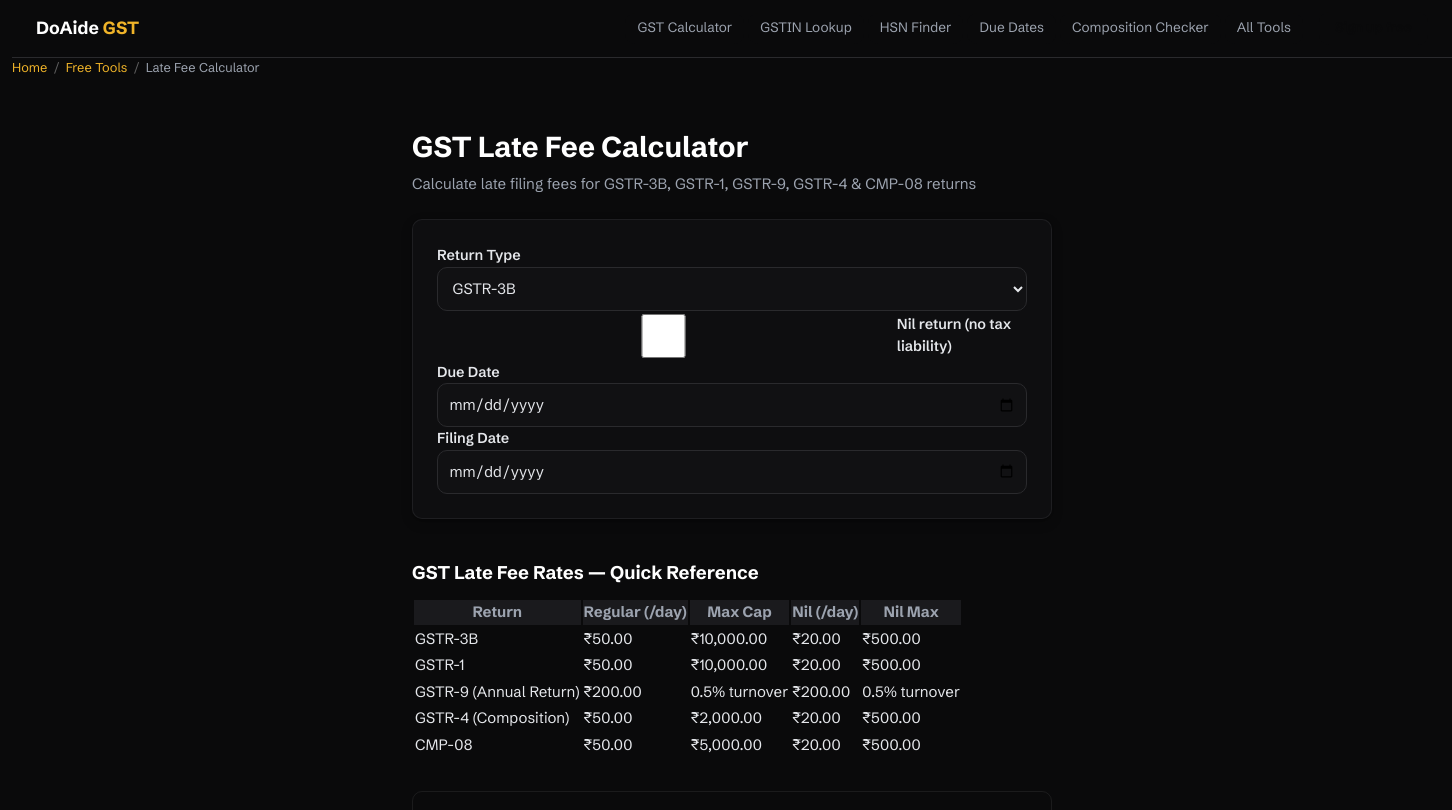
it: LateFeeCalculatorPage › calculates late fee for GSTR-3B
Type "2026-01-20" into the 1st date field at (732, 405), box 437,383 -> 1027,427
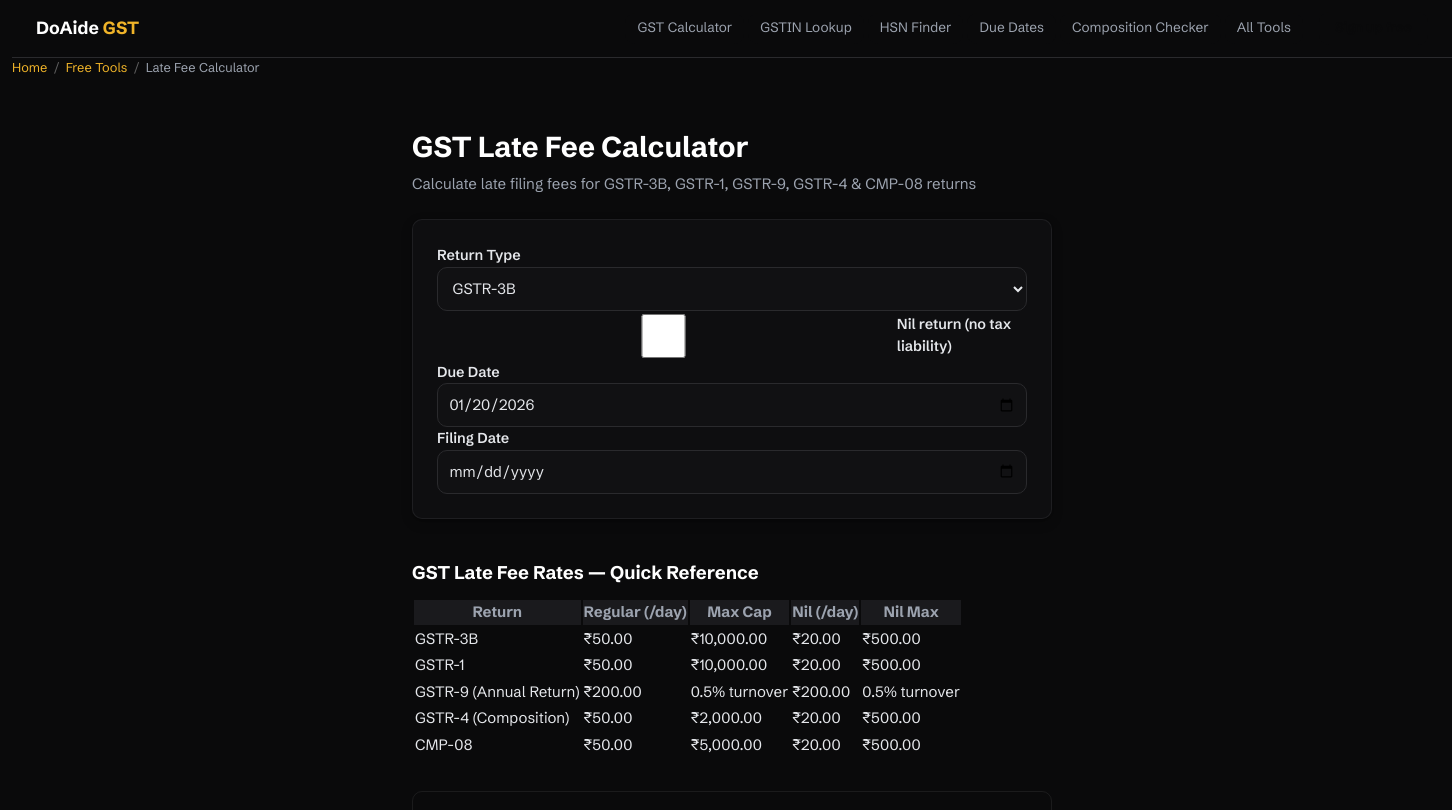
Type "2026-02-20" into the date field below "Filing Date" at (732, 472), box 437,450 -> 1027,494
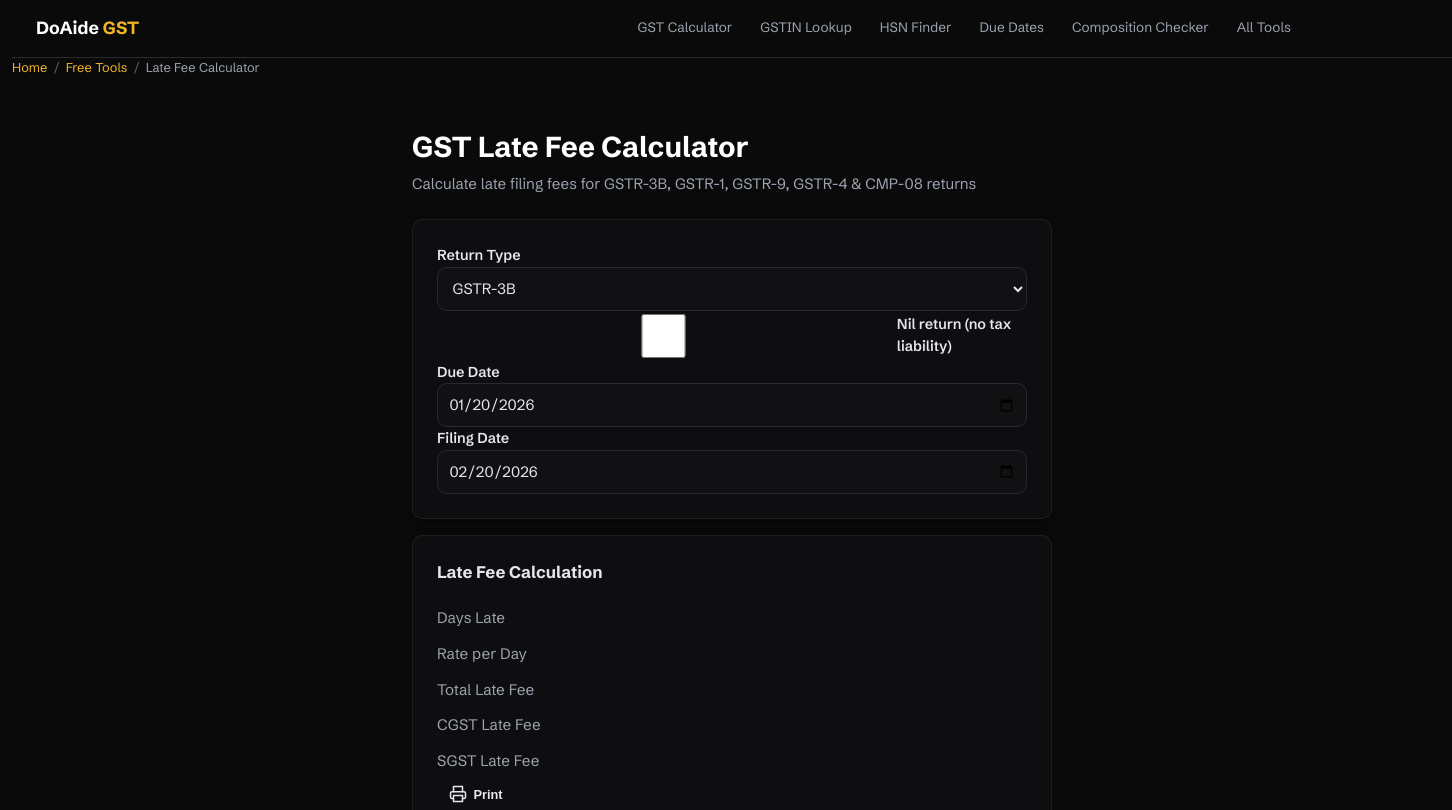
Check: the heading "Late Fee Calculation" is shown, box 437,562 -> 602,582
